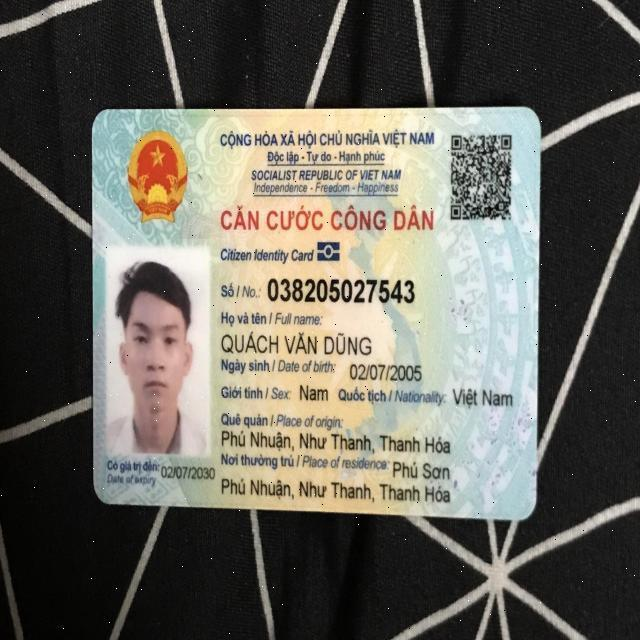current_place: (219, 476, 453, 505), (387, 459, 451, 483)
dob: (347, 359, 428, 384)
expire_date: (158, 458, 215, 485)
gender: (290, 375, 331, 401)
id: (263, 273, 417, 306)
name: (218, 324, 381, 360)
nationality: (448, 381, 515, 414)
origin_place: (217, 427, 453, 457)
